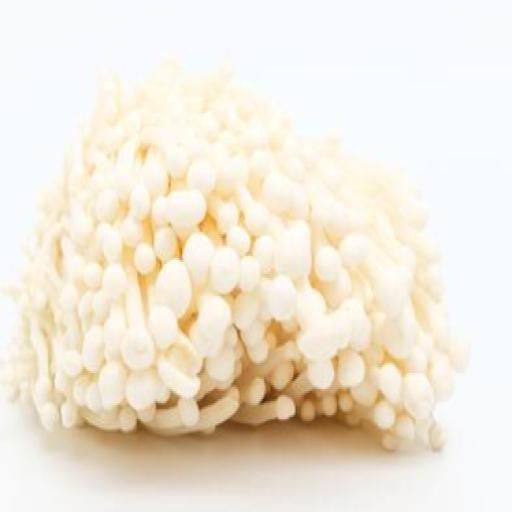Enoki Mushroom: (0, 46, 512, 498)
